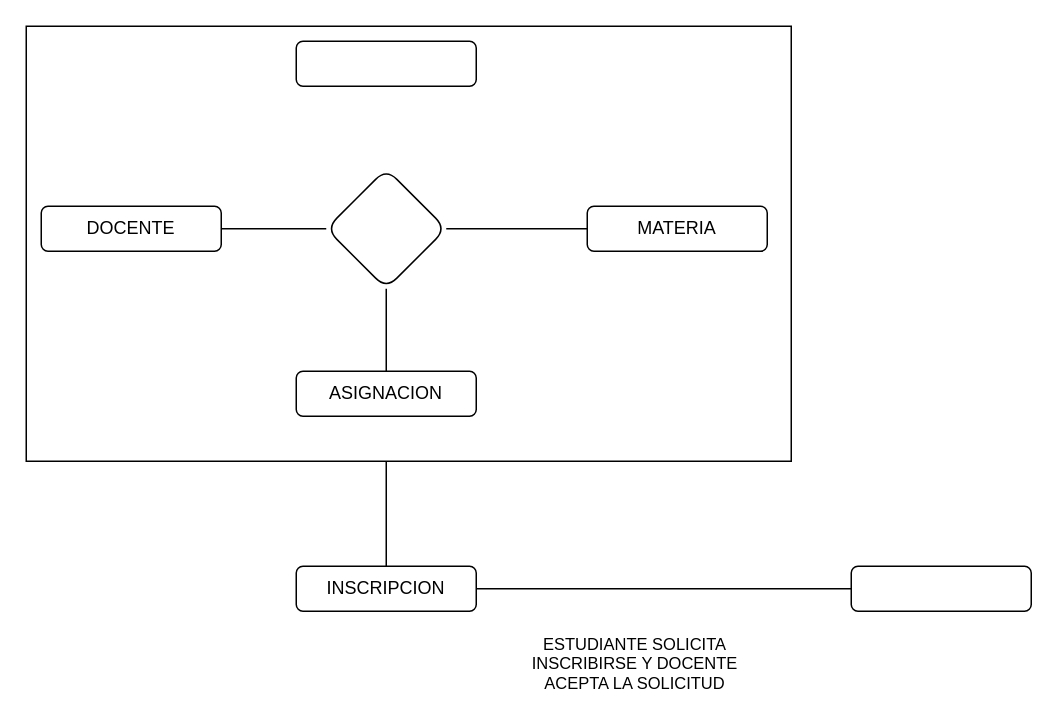
Some shapes in this 1058 by 720 pixel diagram are drawn without their labels. Each missing label, with the centre of its shape:
"ESTUDIANTES" belongs at (x=940, y=588).
"GESTION" belongs at (x=385, y=63).
